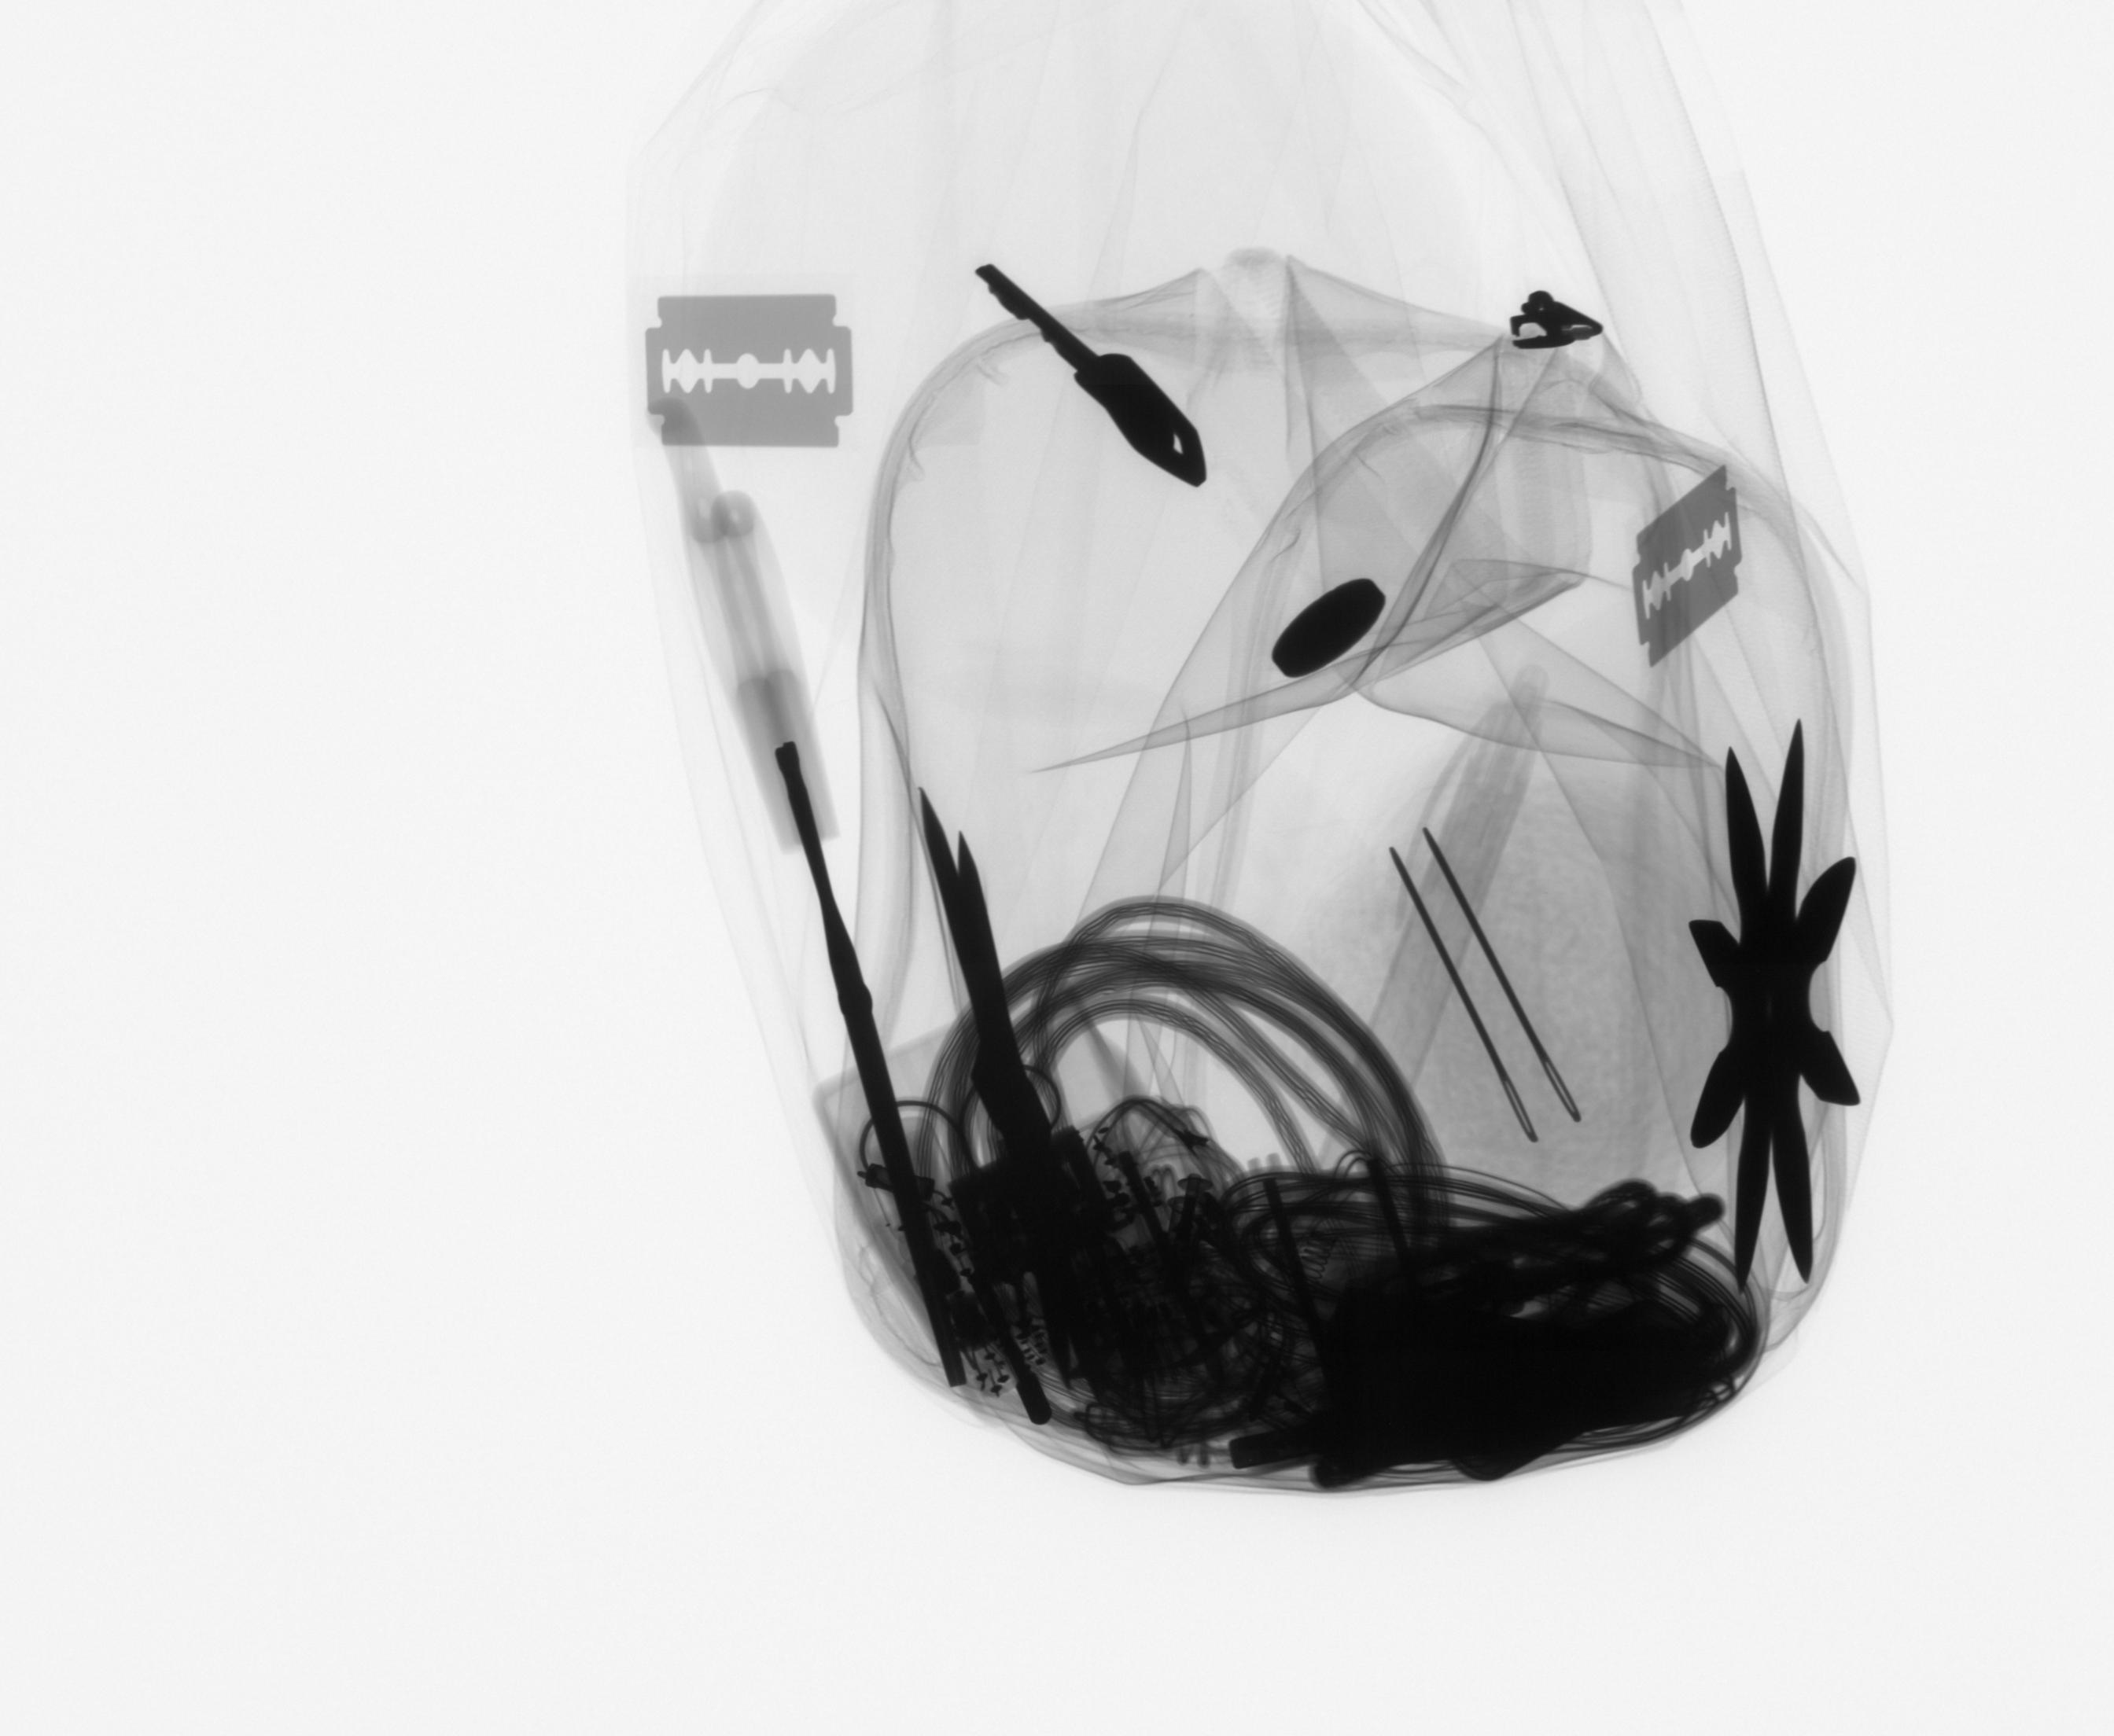RazorBlade: (627, 277, 867, 481), (1608, 462, 1772, 690)
Shuriken: (1670, 723, 1880, 1320)
